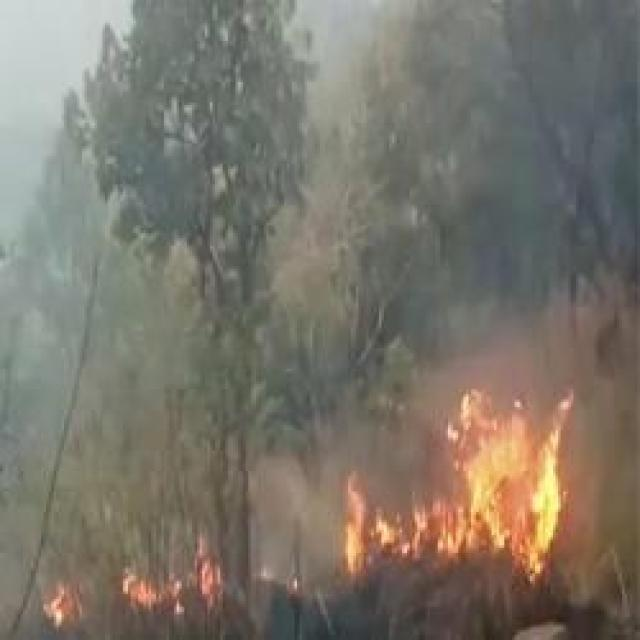Fire: (338, 385, 571, 587)
Smoke: (302, 3, 634, 370)
